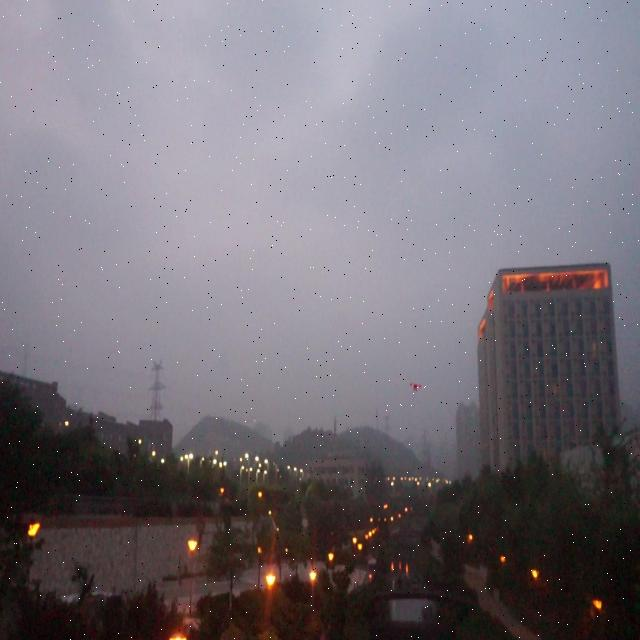UAV: (410, 383, 421, 392)
